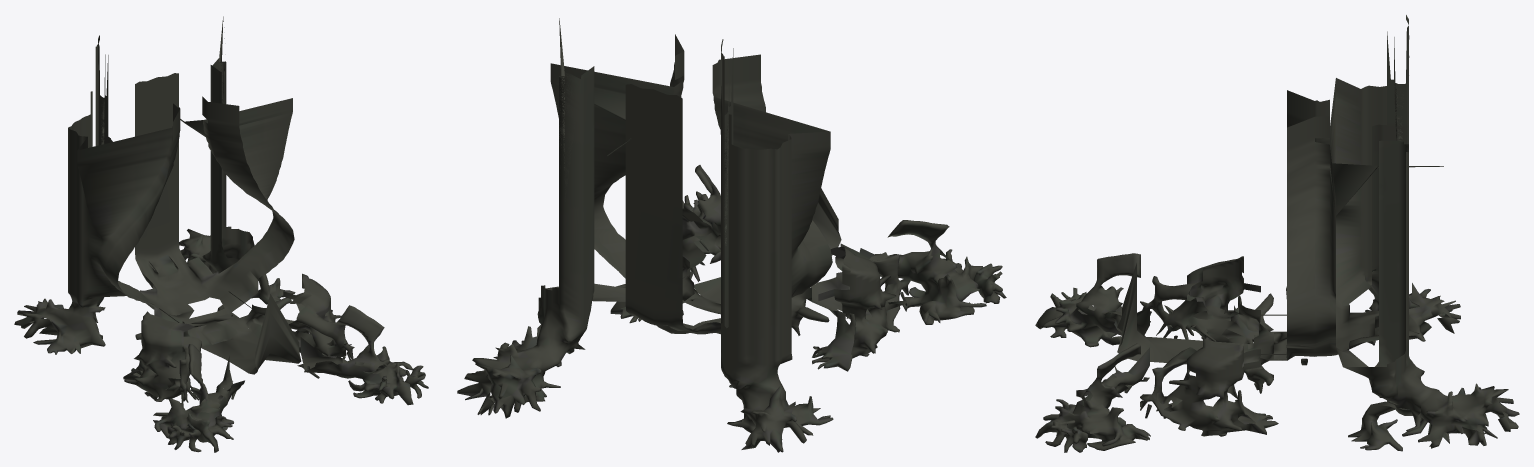
The model's file is lamp_eater.glb.
The picture shows the model from 3 angles, left to right: view 1: azimuth 30°, elevation 25°; view 2: azimuth 150°, elevation 25°; view 3: azimuth 270°, elevation 25°; orthographic projection. The views are drawn at different scales.
Parts seen in each view (by area): view 1: base_model_path; view 2: base_model_path; view 3: base_model_path.
Boxes of the visible parts, x1,y1,x2,y2 form: base_model_path: (14,16,428,452); base_model_path: (457,18,1006,452); base_model_path: (1035,15,1519,452).
Bounding box in the file's own units: 0.6713 × 0.7418 × 0.9492.
1 material, 1 textured.
